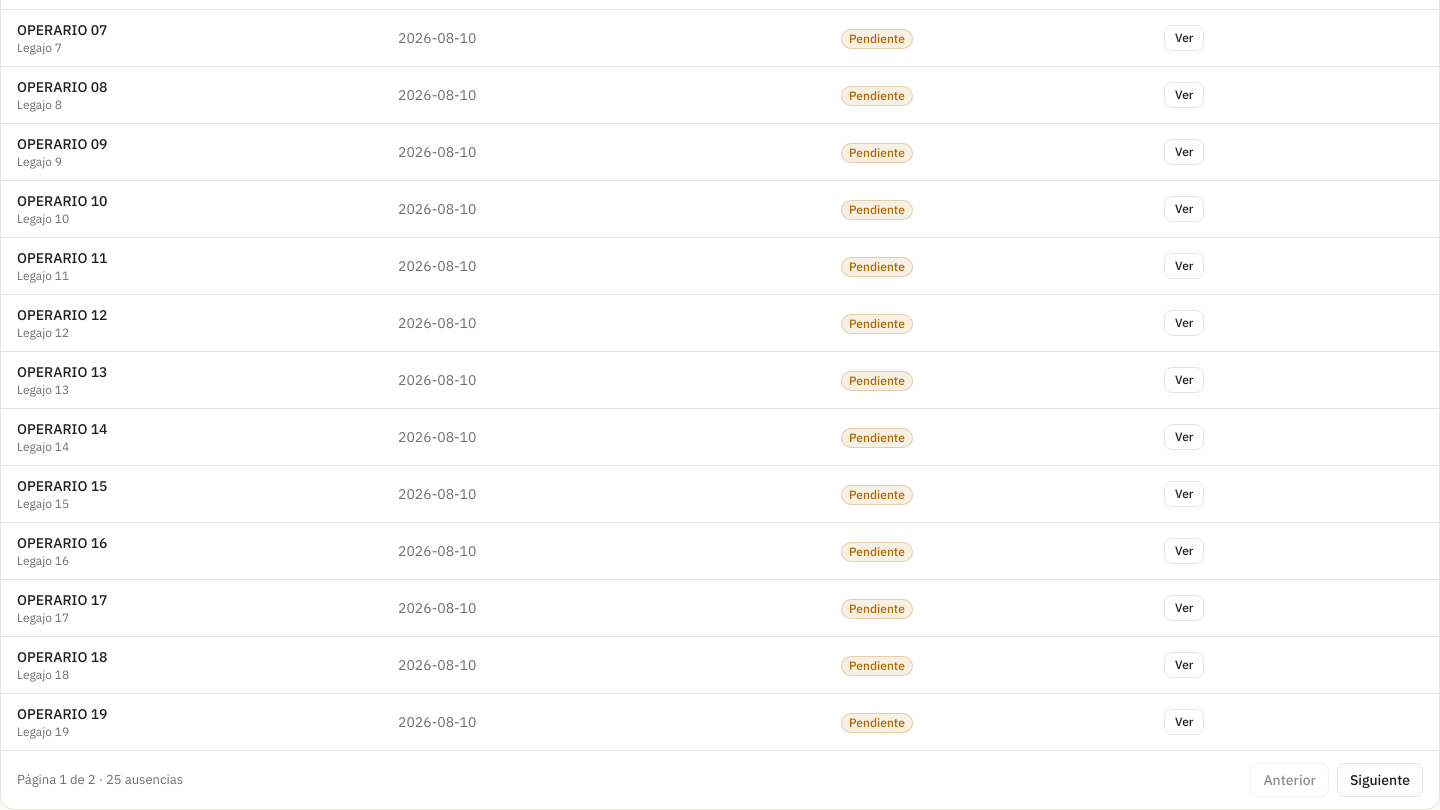
Test: AusenciasPage › paginación (20 por página, pedido 2026-09-03) › cambiar de pestaña vuelve a la página 1
This screenshot has width=1440, height=810.
(page scrolled)
What coordinates should you click on to do the following:
click the button "Siguiente"
I would click on:
 (1380, 780)
Its box is [1337,763,1423,797].
(page scrolled)
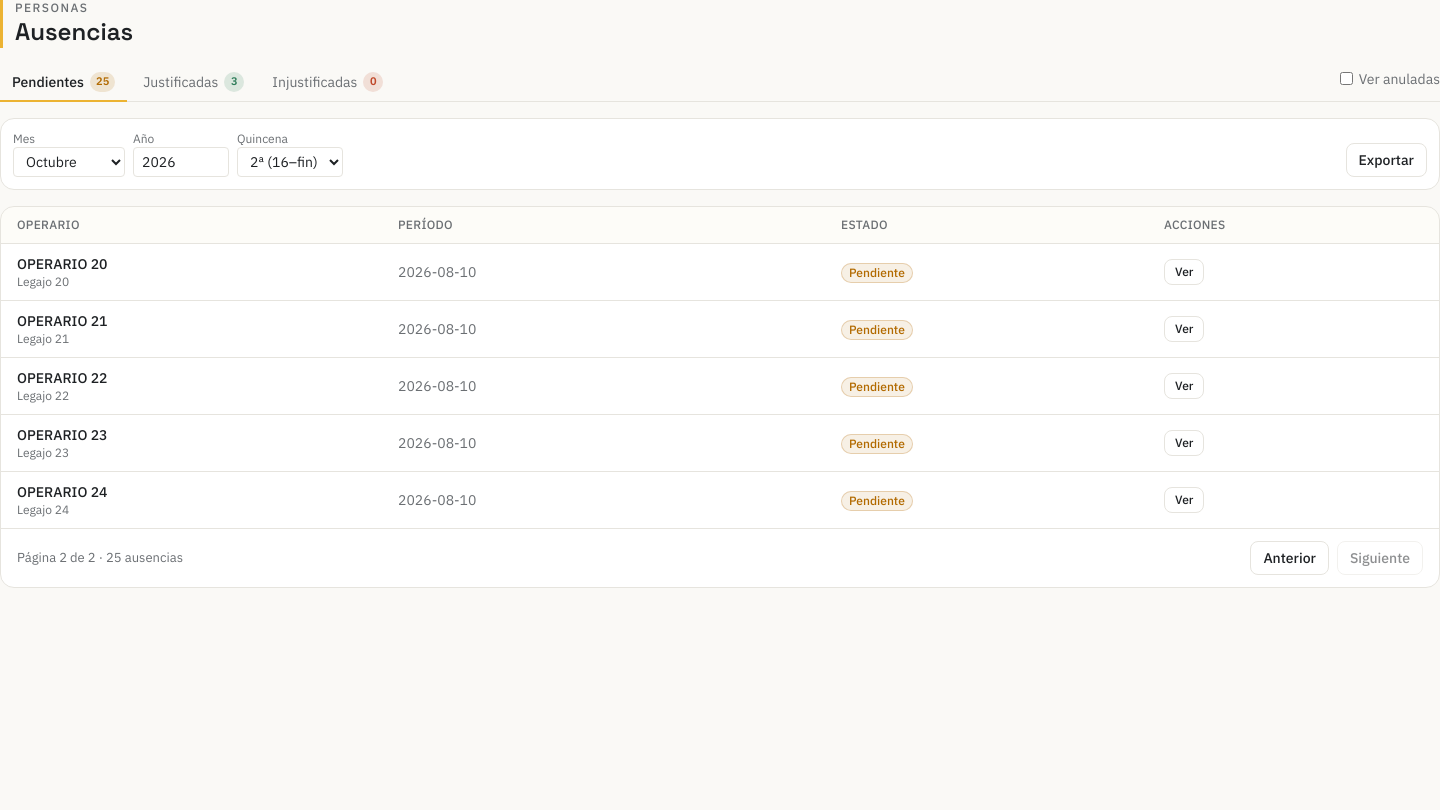
Now the text "Página 2 de 2 · 25 ausencias" is shown, box [17,548,183,568]
What coordinates should you click on to do the following:
click the button "Justificadas 3"
I would click on:
 (194, 83)
Its box is [131,64,256,102].
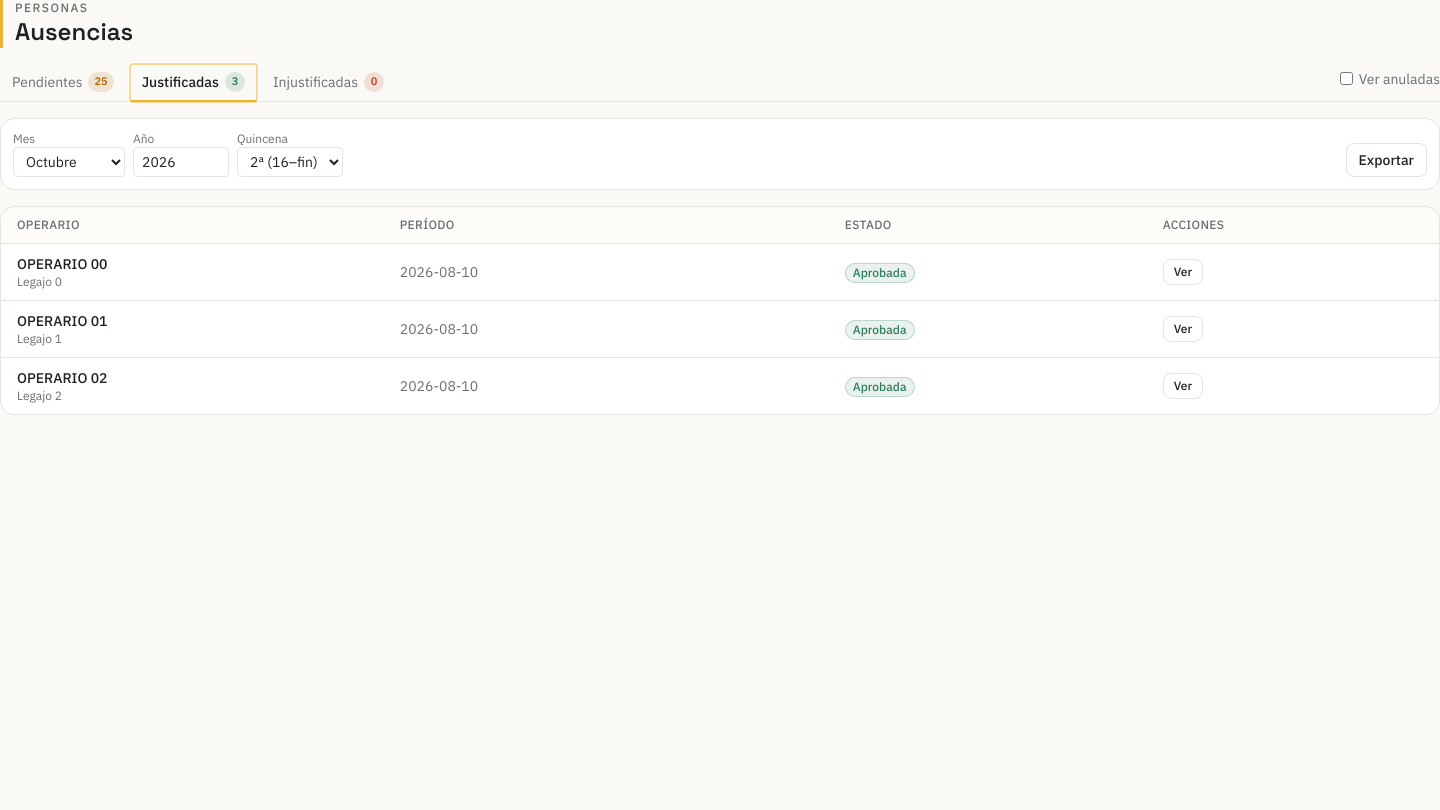
Now the text "Página " is gone
What coordinates should you click on to do the following:
click the button "Pendientes 25"
I would click on:
 (63, 83)
Its box is [0,64,126,102].
(page scrolled)
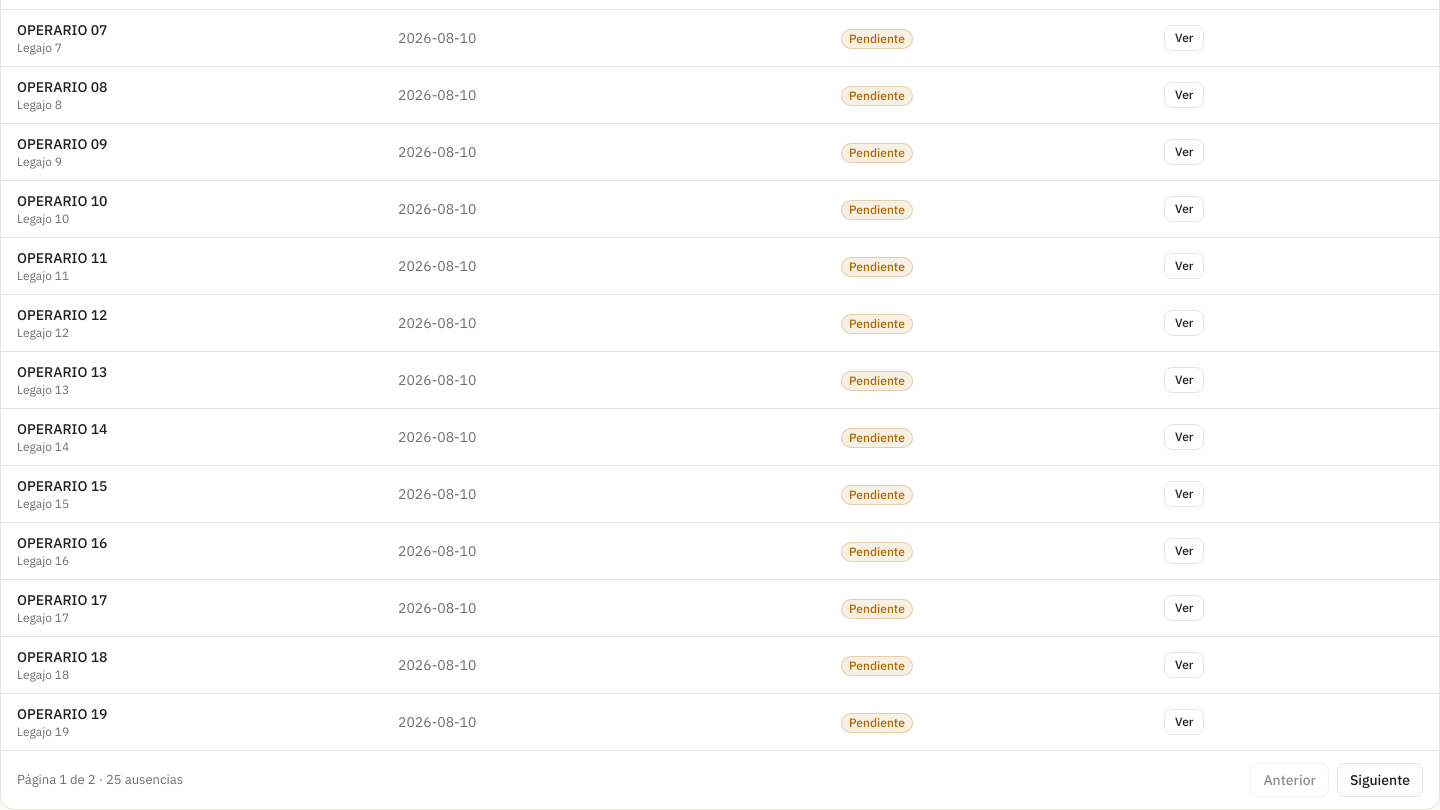
Now the text "Página 1 de 2 · 25 ausencias" is shown, box [17,770,183,790]
